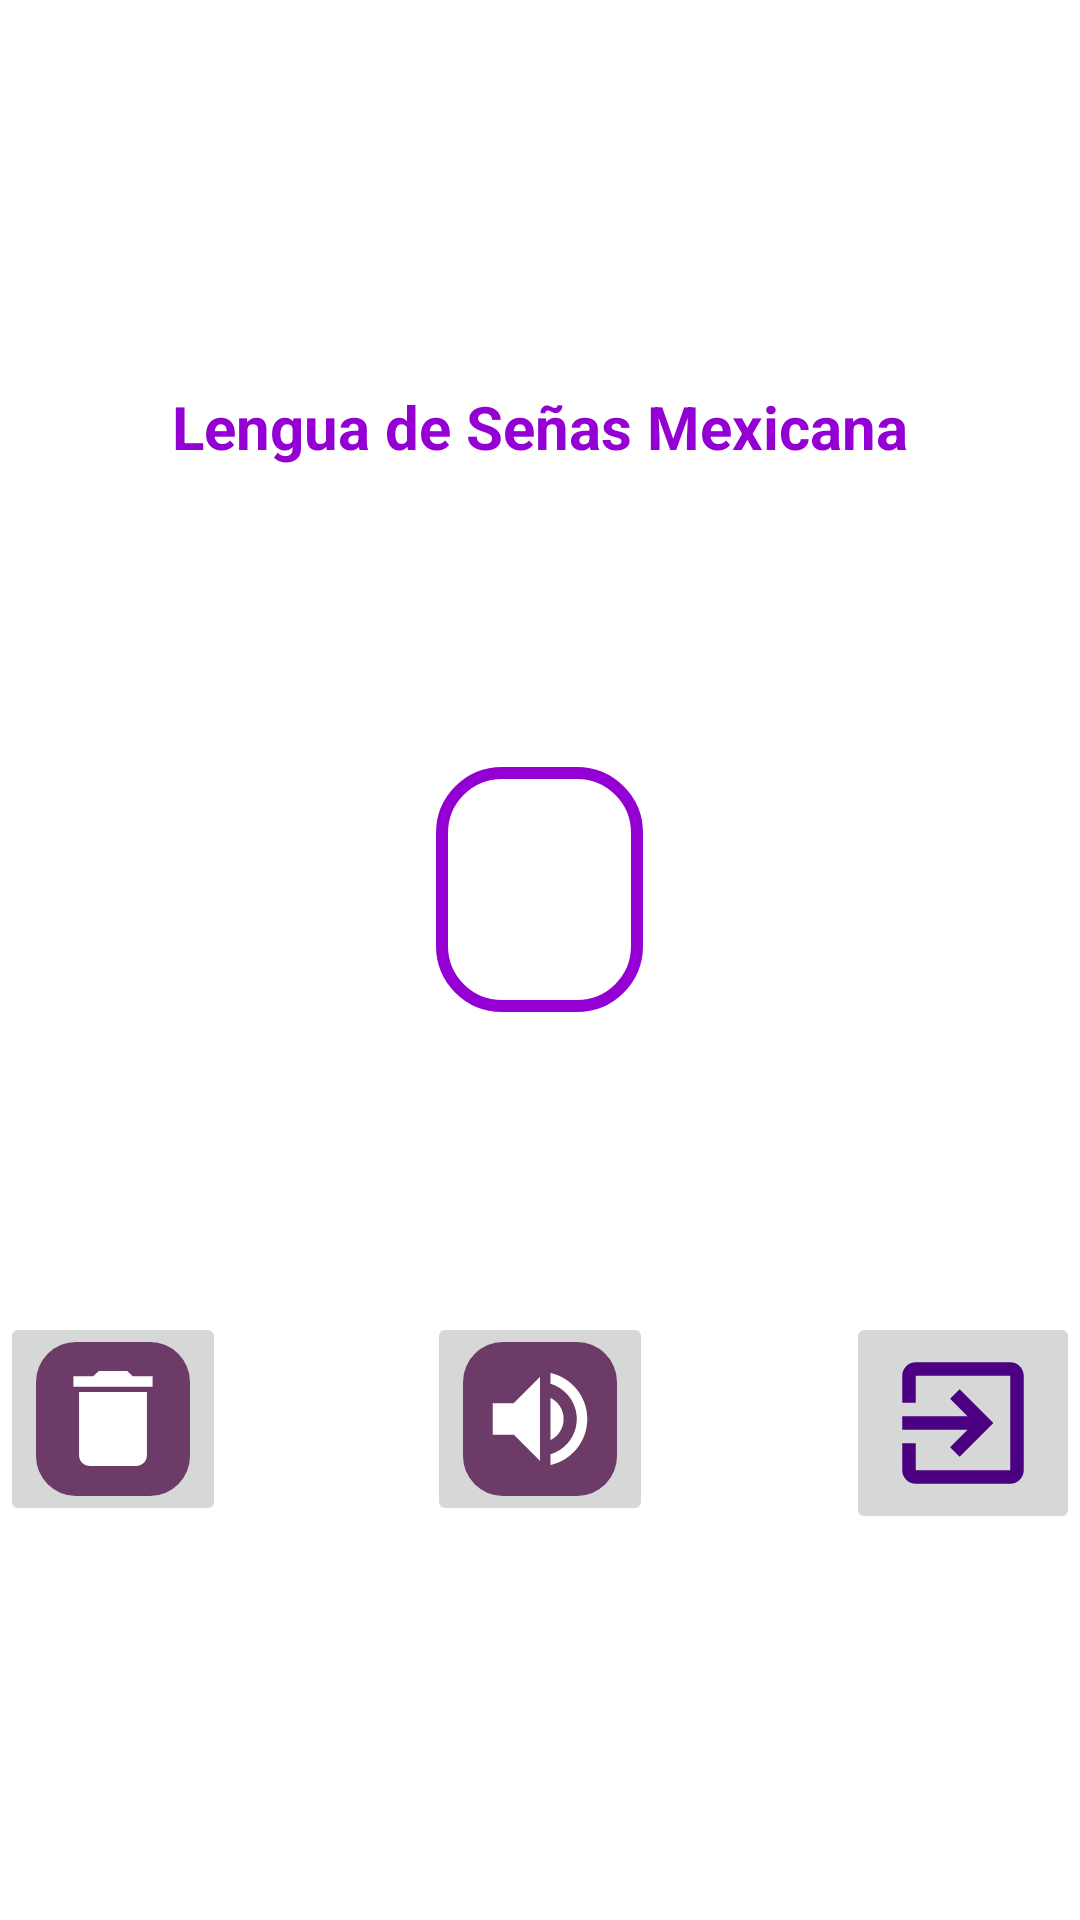

Icon click points for this 1080×1920 phone screenshot, format (x,y):
audio: (540,1419)
delete: (113,1419)
exit to app: (963,1423)
